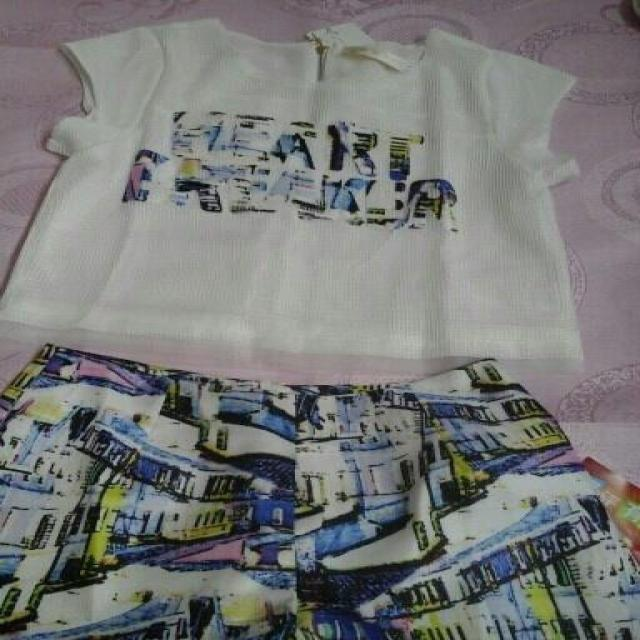short sleeve top: (0, 20, 580, 376)
shorts: (2, 348, 638, 639)
